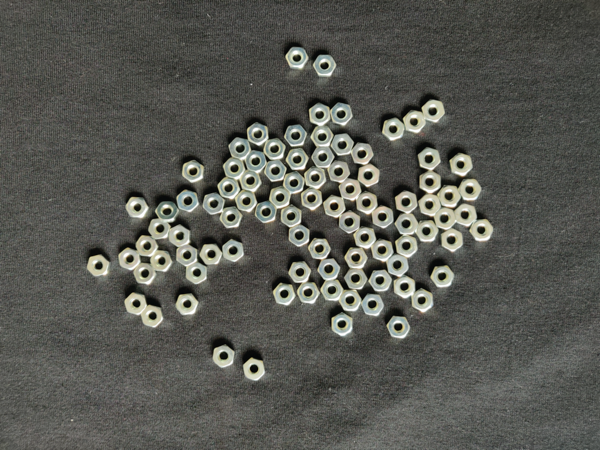nut: (450, 153, 474, 177), (469, 219, 494, 242), (430, 265, 455, 288), (455, 203, 478, 227), (412, 289, 435, 313), (418, 148, 442, 171), (313, 55, 337, 78), (286, 46, 309, 70), (371, 239, 395, 262), (222, 239, 245, 263), (213, 344, 235, 369), (441, 229, 464, 252), (423, 100, 446, 123), (403, 111, 426, 134), (362, 294, 385, 317), (328, 161, 351, 184), (255, 201, 278, 224), (223, 157, 246, 180), (182, 160, 205, 183), (186, 262, 209, 285), (141, 305, 164, 328), (125, 293, 148, 316), (458, 179, 482, 201), (387, 317, 411, 339), (356, 191, 378, 215), (176, 294, 200, 316), (87, 255, 111, 277), (438, 186, 461, 208), (383, 118, 405, 141), (419, 194, 442, 216), (396, 191, 418, 214), (396, 235, 418, 258), (387, 254, 409, 277), (372, 206, 394, 229), (331, 103, 353, 126), (309, 103, 331, 126), (351, 143, 374, 165), (358, 164, 380, 187), (354, 227, 377, 249), (339, 290, 362, 312), (331, 134, 354, 156), (339, 179, 362, 201), (339, 211, 361, 234), (324, 195, 346, 218), (305, 166, 327, 189), (301, 187, 323, 210), (285, 125, 308, 147), (298, 282, 320, 305), (289, 262, 312, 284), (273, 284, 296, 306), (269, 187, 292, 209), (264, 138, 286, 161), (247, 123, 269, 146), (218, 177, 241, 199), (177, 189, 199, 212), (169, 225, 191, 248), (134, 263, 157, 285), (119, 248, 141, 271), (415, 221, 439, 242), (395, 214, 419, 235), (395, 275, 416, 299), (369, 271, 393, 292), (344, 269, 368, 290), (332, 313, 353, 337), (317, 259, 341, 280), (286, 149, 310, 170), (289, 224, 310, 248), (155, 202, 179, 223), (435, 208, 457, 230), (321, 280, 343, 302), (284, 172, 306, 194), (265, 160, 287, 182), (240, 170, 262, 192), (236, 190, 258, 212), (203, 193, 225, 215), (345, 248, 368, 269), (311, 126, 334, 147), (312, 147, 335, 168), (308, 238, 331, 259), (244, 358, 265, 381), (281, 205, 302, 228), (246, 150, 267, 173), (230, 137, 251, 160), (220, 207, 243, 228), (200, 244, 223, 265), (148, 219, 171, 240), (151, 251, 174, 272), (136, 236, 159, 257), (126, 197, 149, 218), (420, 171, 441, 193), (177, 245, 198, 267)
